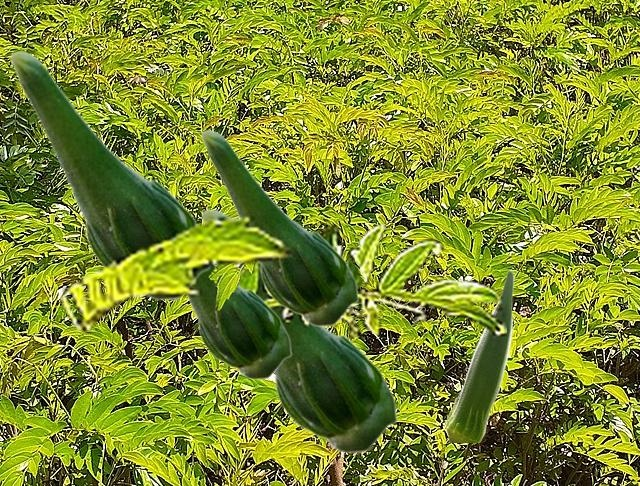okra: (9, 50, 210, 300), (200, 208, 397, 453), (200, 129, 358, 326), (445, 269, 513, 441), (188, 269, 291, 379)
